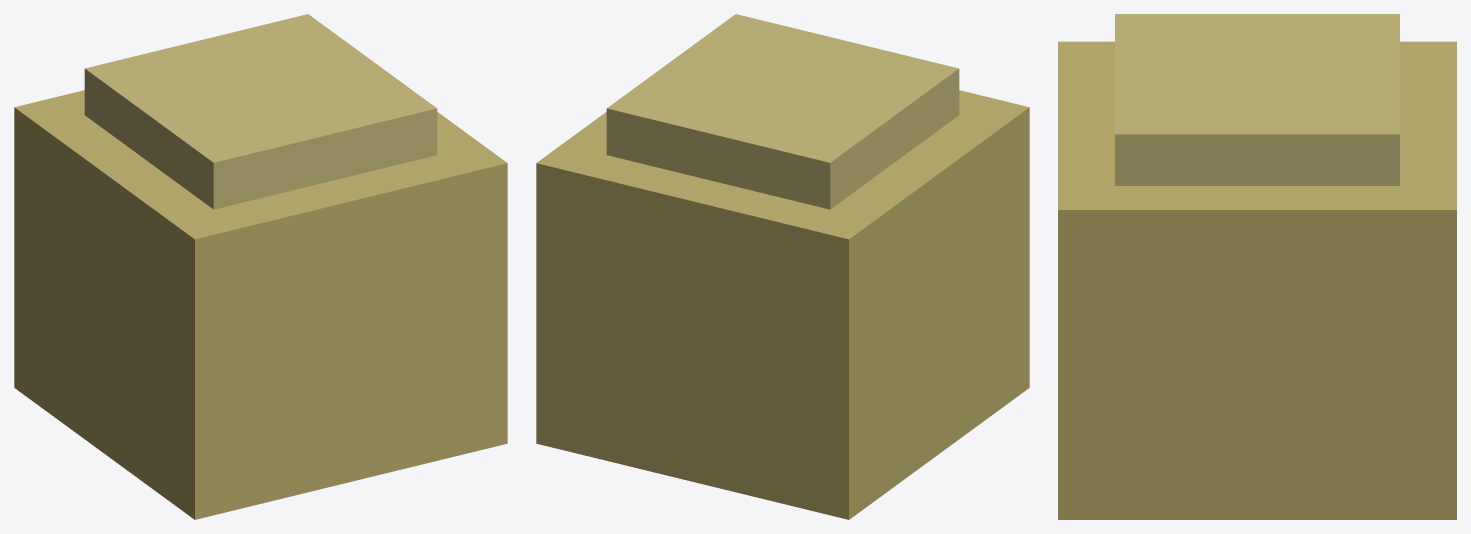
File: bala_heno_01.glb
3 views of the same model, side by side, from view 1: azimuth 30°, elevation 25°; view 2: azimuth 150°, elevation 25°; view 3: azimuth 270°, elevation 25° (orthographic). The views are drawn at different scales.
Parts seen in each view (by area): view 1: bala_heno; view 2: bala_heno; view 3: bala_heno.
Boxes of the visible parts, bbox=[...] form: bala_heno: bbox=[14, 14, 507, 519]; bala_heno: bbox=[536, 14, 1029, 519]; bala_heno: bbox=[1058, 14, 1456, 519].
Size of the model in its own units: 0.7 by 0.7 by 0.7.
